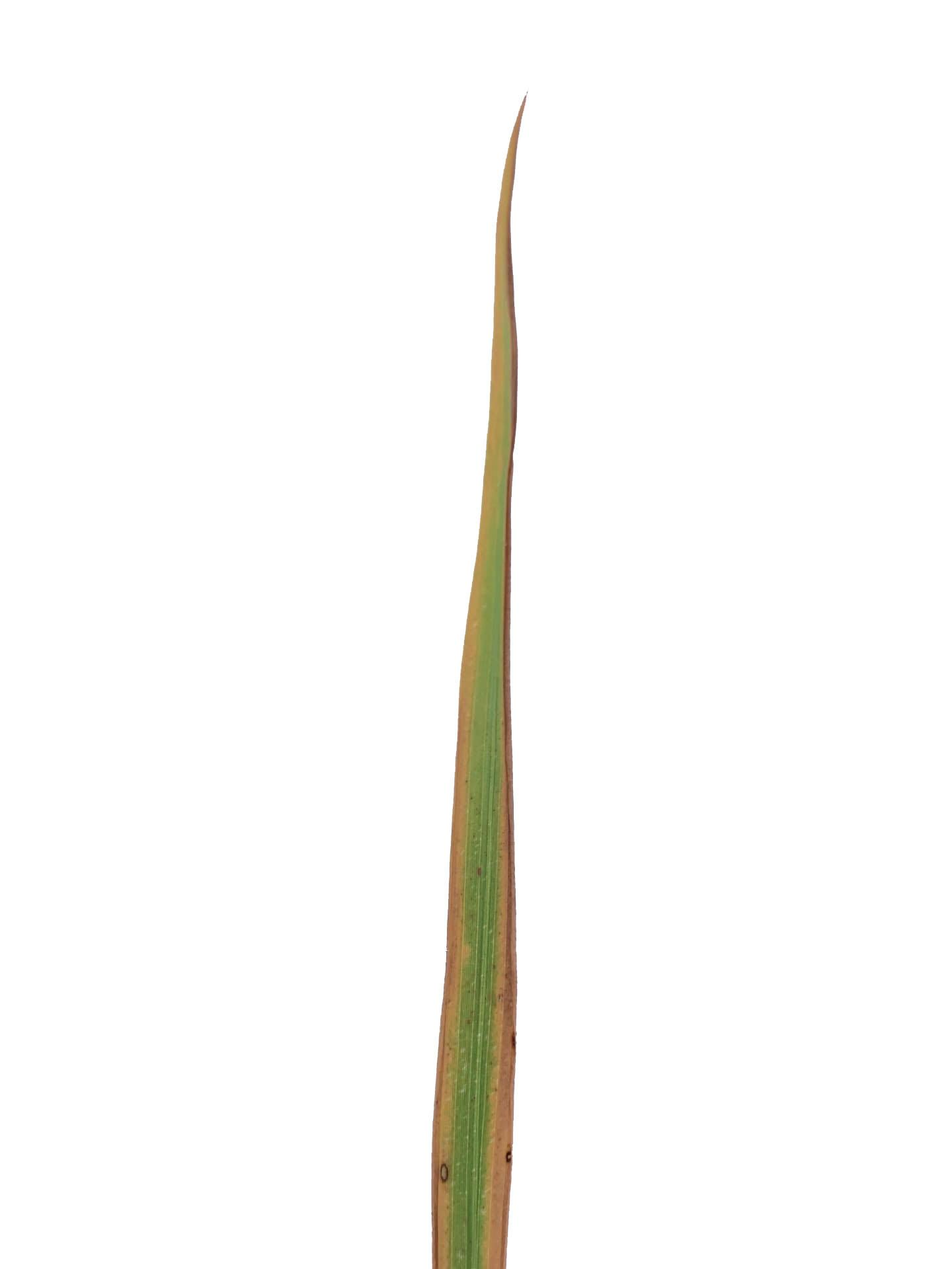Tungro: (430, 103, 524, 1269)
